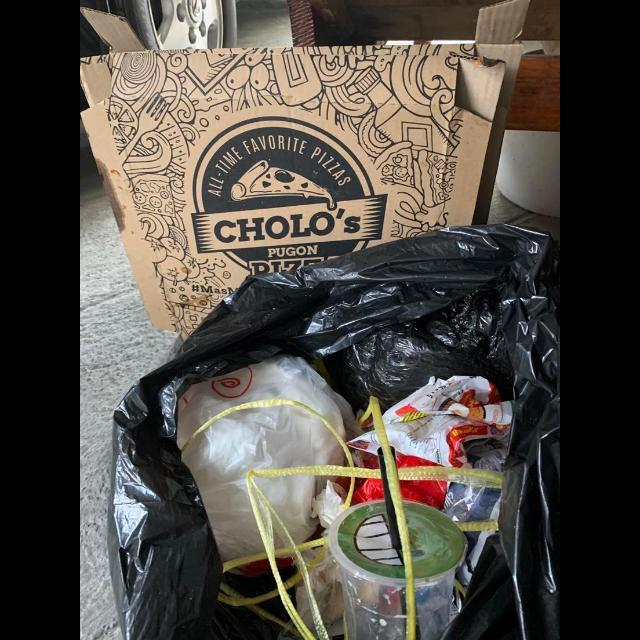paper: (80, 0, 531, 341)
plastic: (177, 355, 365, 563), (254, 475, 338, 546)
wrapper: (382, 376, 515, 469), (346, 430, 380, 456)
